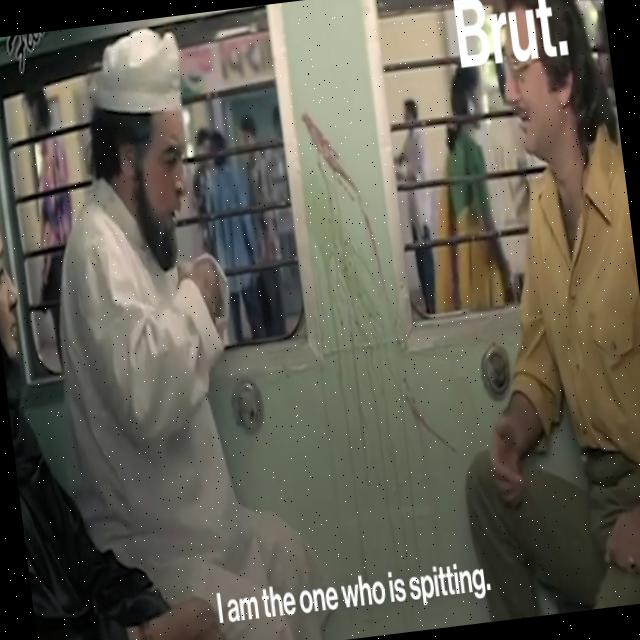spit: (282, 75, 428, 399)
